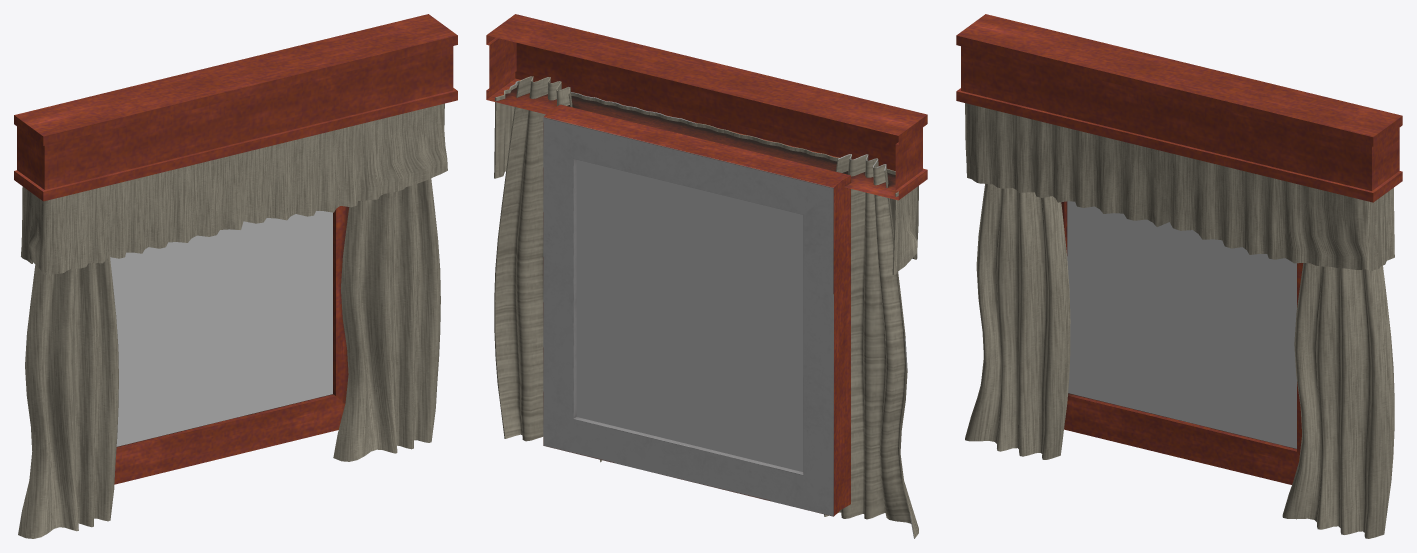
The model's file is SM_Wash_Window.fbx.
The picture shows the model from 3 angles, left to right: view 1: azimuth 30°, elevation 25°; view 2: azimuth 150°, elevation 25°; view 3: azimuth 330°, elevation 25°; orthographic projection.
Parts seen in each view (by area): view 1: SM_Wash_Window; view 2: SM_Wash_Window; view 3: SM_Wash_Window.
Part boxes in pixels (x1,y1,x2,y2): SM_Wash_Window: (14, 14, 457, 538); SM_Wash_Window: (486, 14, 927, 538); SM_Wash_Window: (956, 14, 1402, 538).
Size of the model in its own units: 107 by 17.63 by 99.
Materials: 2 (1 with a texture image).
